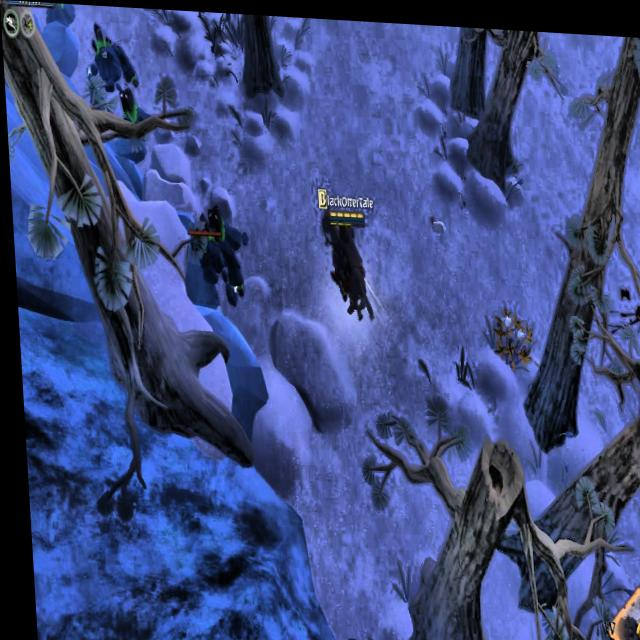tinore: (110, 82, 151, 142), (42, 2, 78, 31)
